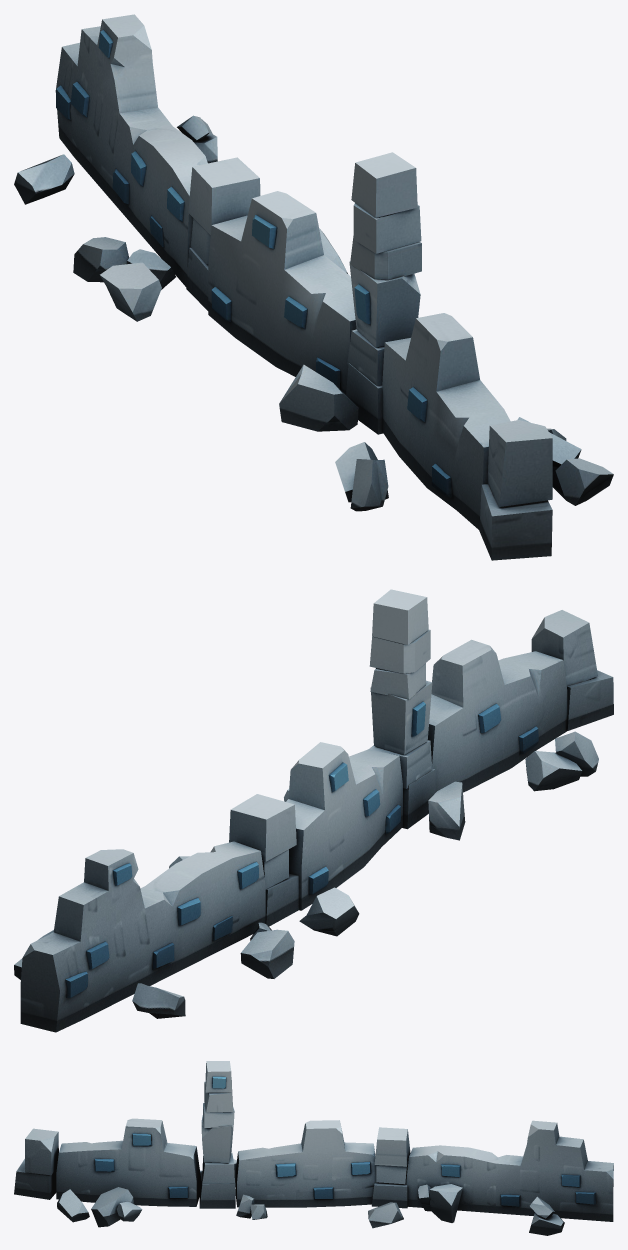
The model's file is PS_Cartoon_Wall02.FBX.
3 renders of one model, top to bottom at view 1: azimuth 30°, elevation 25°; view 2: azimuth 150°, elevation 25°; view 3: azimuth 270°, elevation 25°, orthographic. The views are drawn at different scales.
Parts seen in each view (by area): view 1: Wall002; view 2: Wall002; view 3: Wall002.
Boxes of the visible parts, <box> form: Wall002: <box>14,14,613,560</box>; Wall002: <box>14,589,613,1032</box>; Wall002: <box>14,1061,613,1235</box>.
Size of the model in its own units: 128 by 120 by 458.
